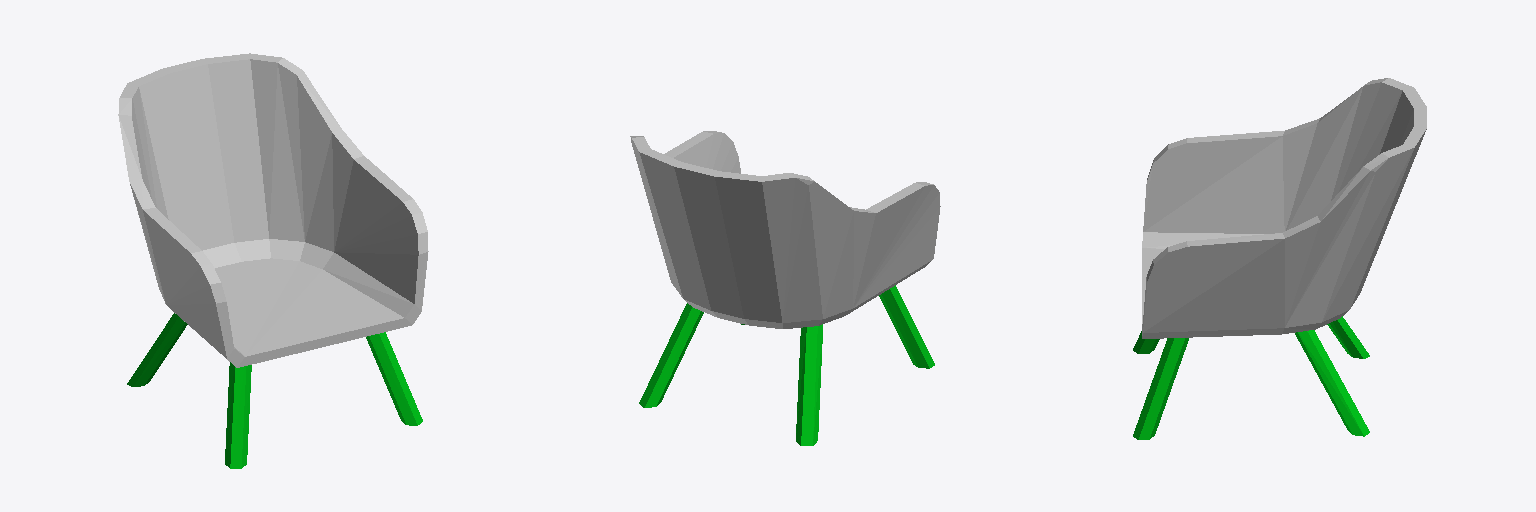
Rendered from SofaSolo.obj.
3 views of the same model, side by side, from view 1: azimuth 30°, elevation 25°; view 2: azimuth 150°, elevation 25°; view 3: azimuth 270°, elevation 25° (orthographic).
Parts seen in each view (by area): view 1: Cube.040_Cube.012; view 2: Cube.040_Cube.012; view 3: Cube.040_Cube.012.
Boxes of the visible parts, x1,y1,x2,y2 form: Cube.040_Cube.012: [118, 53, 428, 468]; Cube.040_Cube.012: [630, 131, 940, 445]; Cube.040_Cube.012: [1133, 78, 1426, 439].
Size of the model in its own units: 1.05 by 1.25 by 1.21.